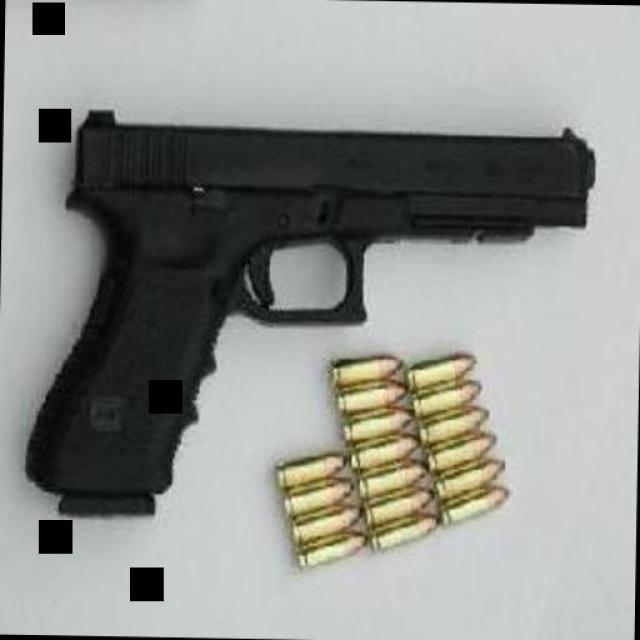gun: (22, 113, 592, 532)
